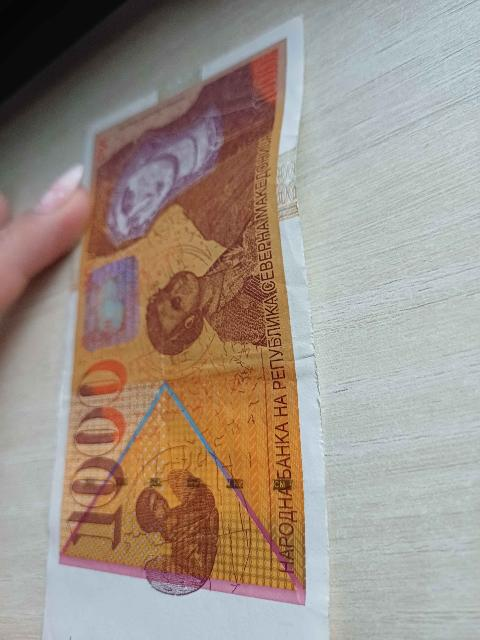1000_note: (14, 12, 343, 639)
